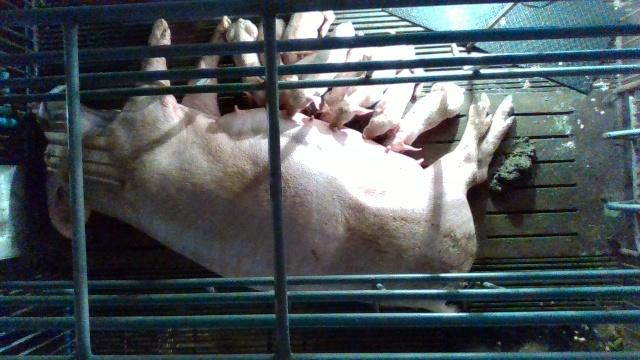piglet: (284, 22, 355, 119), (381, 82, 464, 153), (361, 68, 425, 142), (328, 68, 396, 132), (226, 18, 267, 108), (284, 10, 335, 65)
sow-sleep-lactate: (38, 17, 516, 312)
